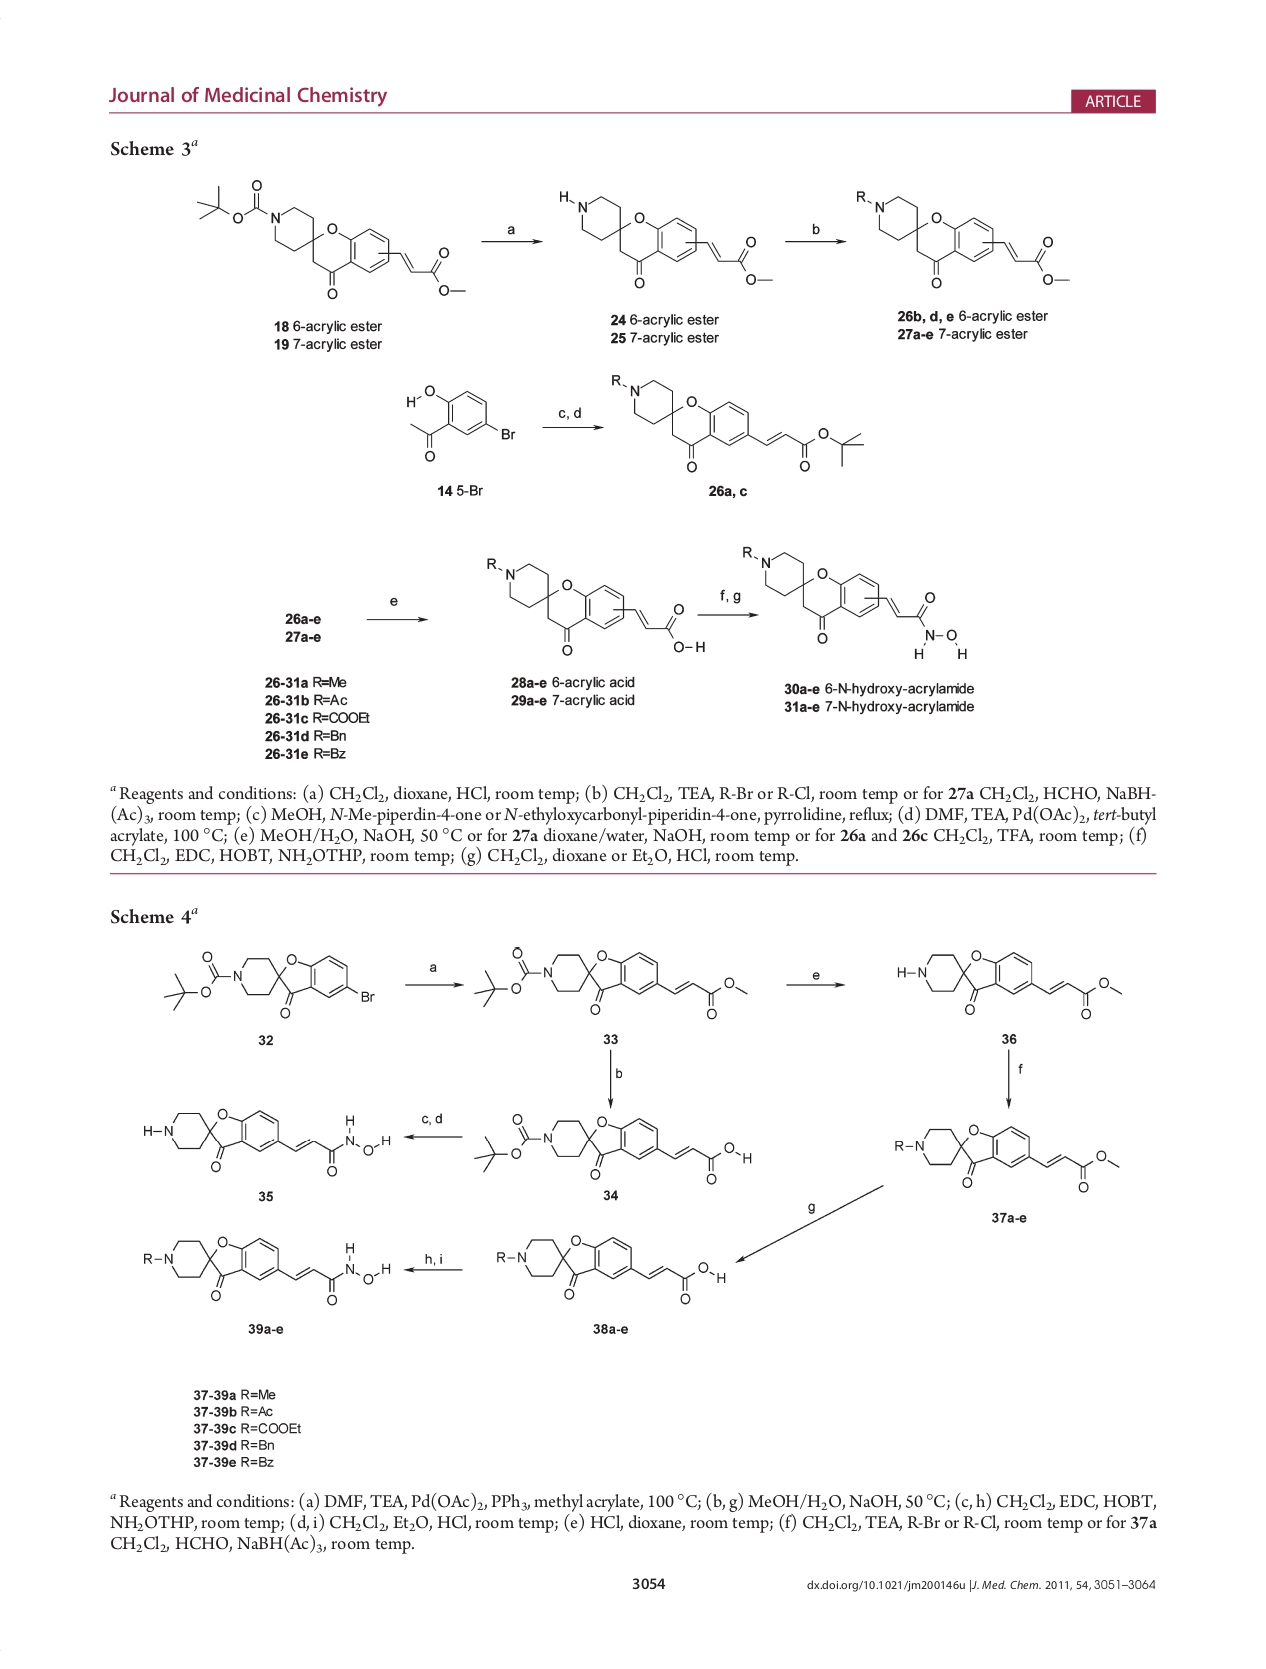exist_molecular: (197, 177, 468, 299), (606, 366, 866, 477), (737, 541, 969, 662), (479, 548, 709, 657), (552, 184, 777, 293), (852, 184, 1071, 295), (469, 1110, 755, 1188), (136, 1229, 395, 1310), (469, 946, 749, 1020), (136, 1102, 394, 1177), (488, 1233, 729, 1309), (883, 1120, 1122, 1196), (894, 943, 1122, 1021), (161, 947, 375, 1020), (396, 380, 516, 467)
